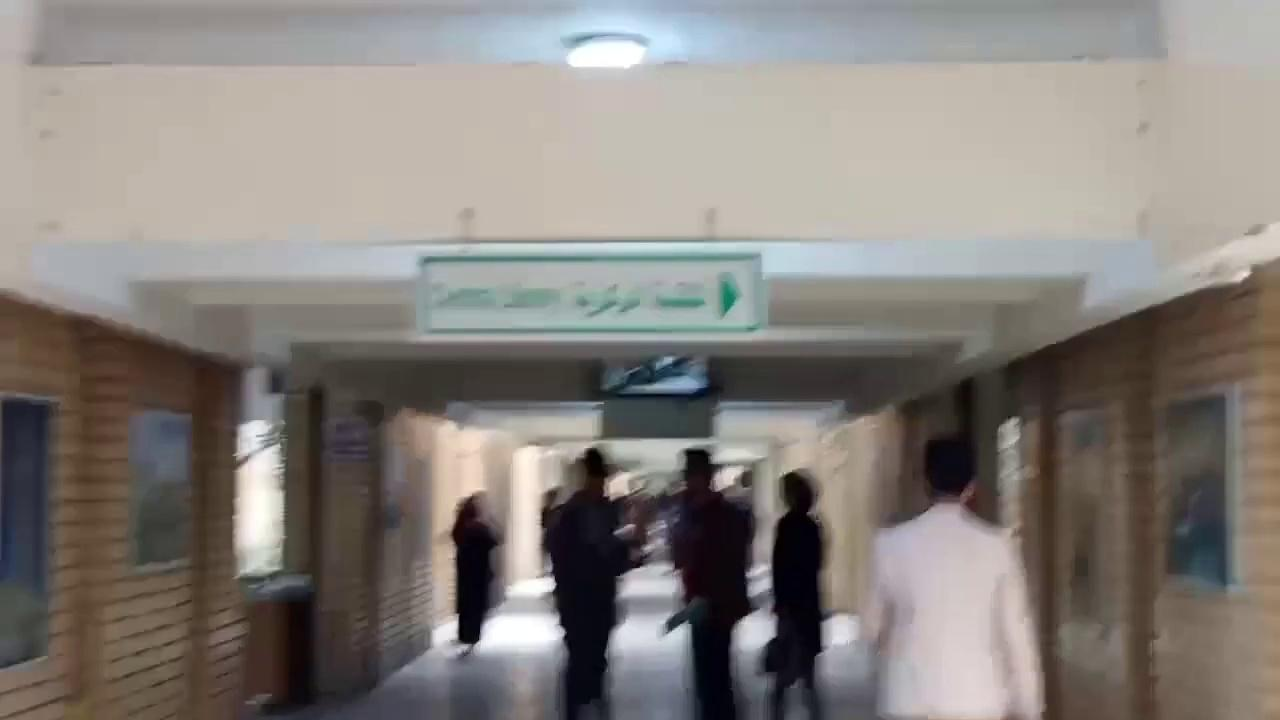person: (859, 436, 1045, 718), (543, 447, 646, 719), (657, 448, 753, 718), (764, 470, 827, 719), (450, 493, 500, 658)
tree: (233, 418, 287, 576)
